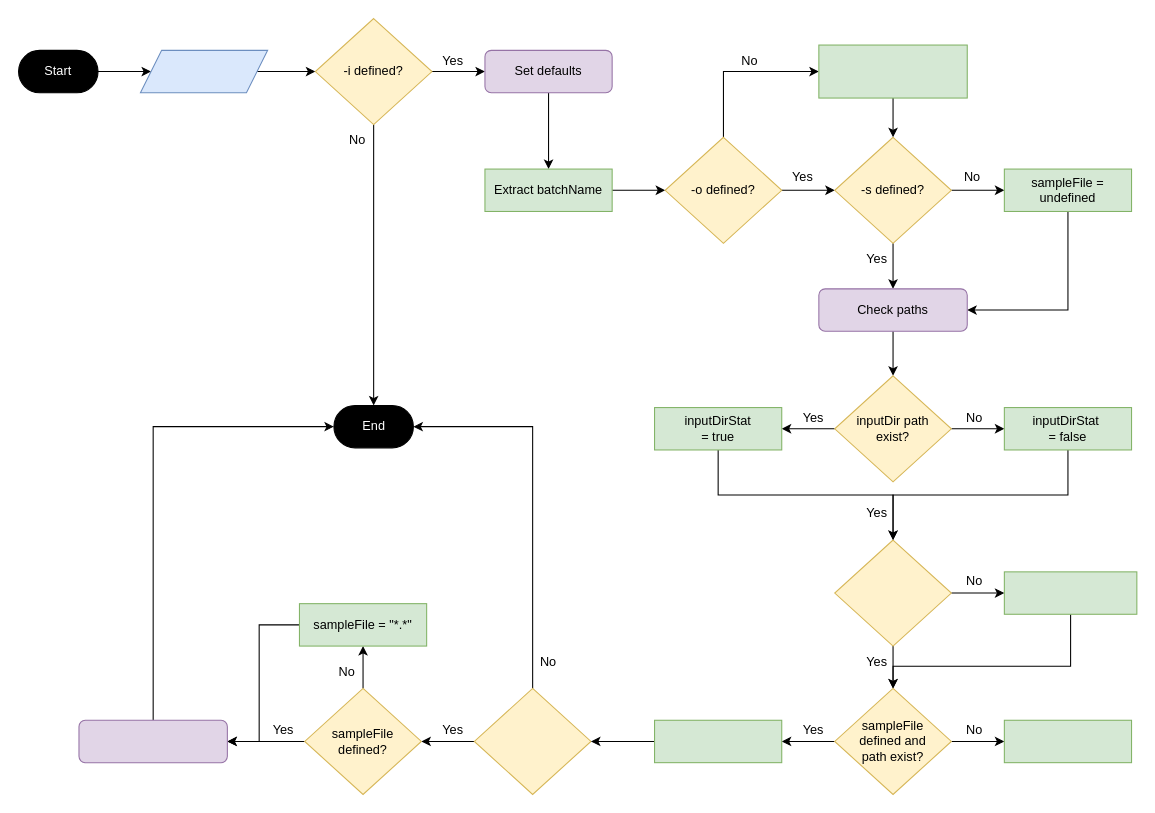
The diagram is 1155 pixels wide and 813 high, and some of its shapes have lost their labels. Here are the shapes that lost their labels. From the top down, the box of each, then its label:
(139, 49, 268, 93): Read input
(818, 44, 967, 98): outputDir = "$HOME/Data/mzML/ $batchName/"
(834, 539, 951, 646): outputDir path exist?
(1003, 571, 1137, 614): Create path
(78, 719, 227, 763): Execute Docker container
(473, 687, 591, 794): inputDirStat && sampleFileStat == true?
(653, 719, 782, 763): sampleFileStat = true
(1003, 719, 1132, 763): sampleFileStat = false
